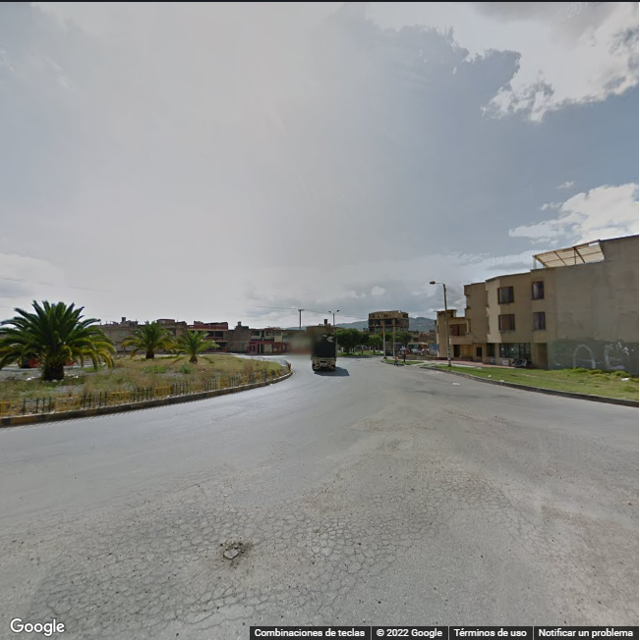D20: (31, 487, 454, 633), (465, 474, 556, 557)
